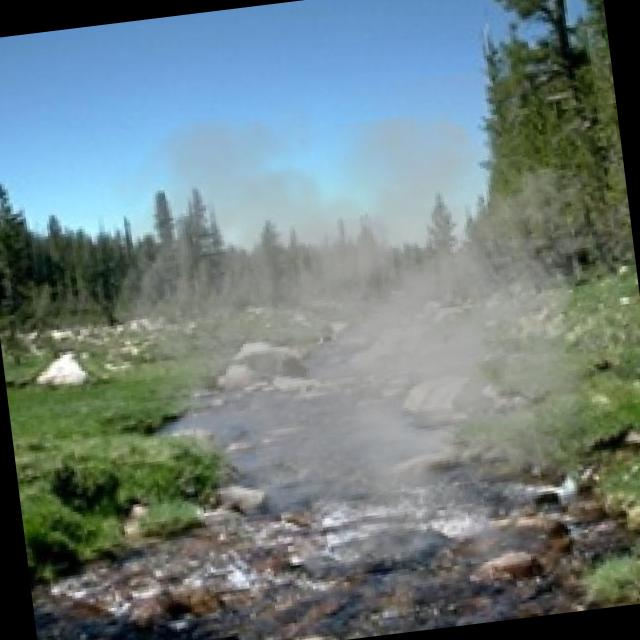Smoke: (68, 55, 640, 640)
